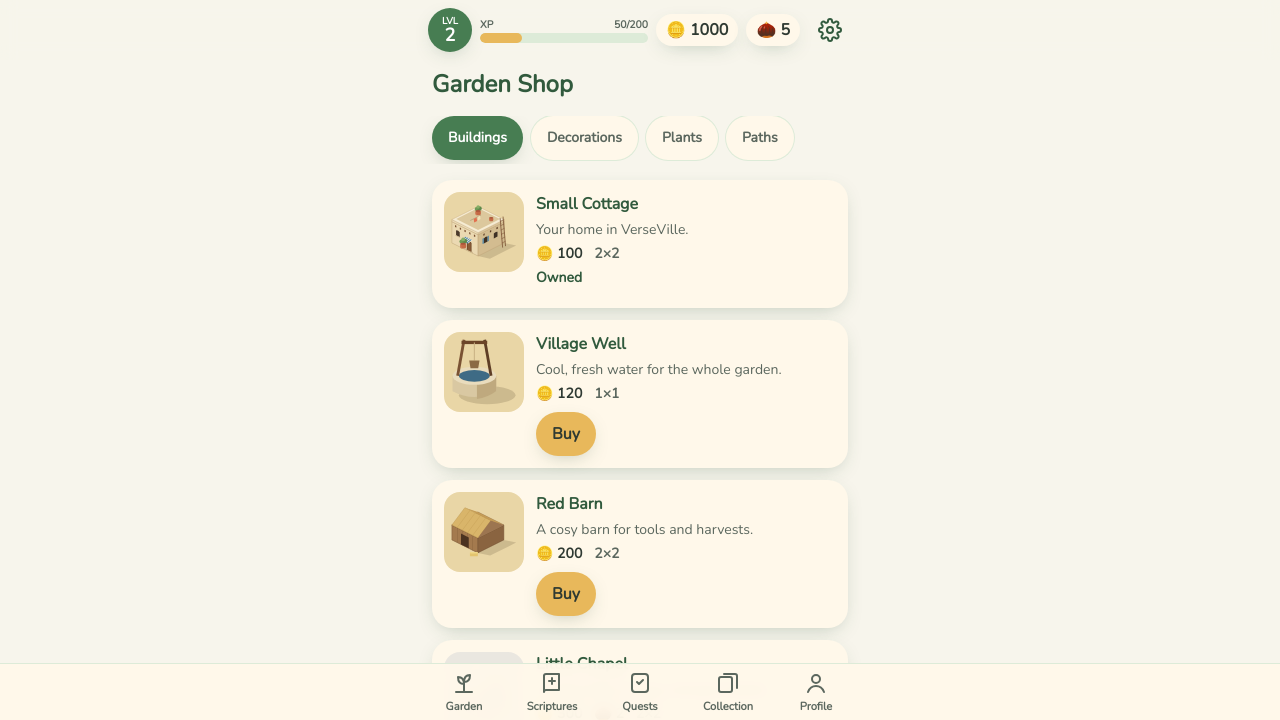
Test: garden screens › unique buildings cannot be bought twice
The image size is (1280, 720).
Expected: the heading "Garden Shop" is shown, [432,68,573,100]
Click the button "Buy" below "120" at (566, 434), box [536,412,596,456]
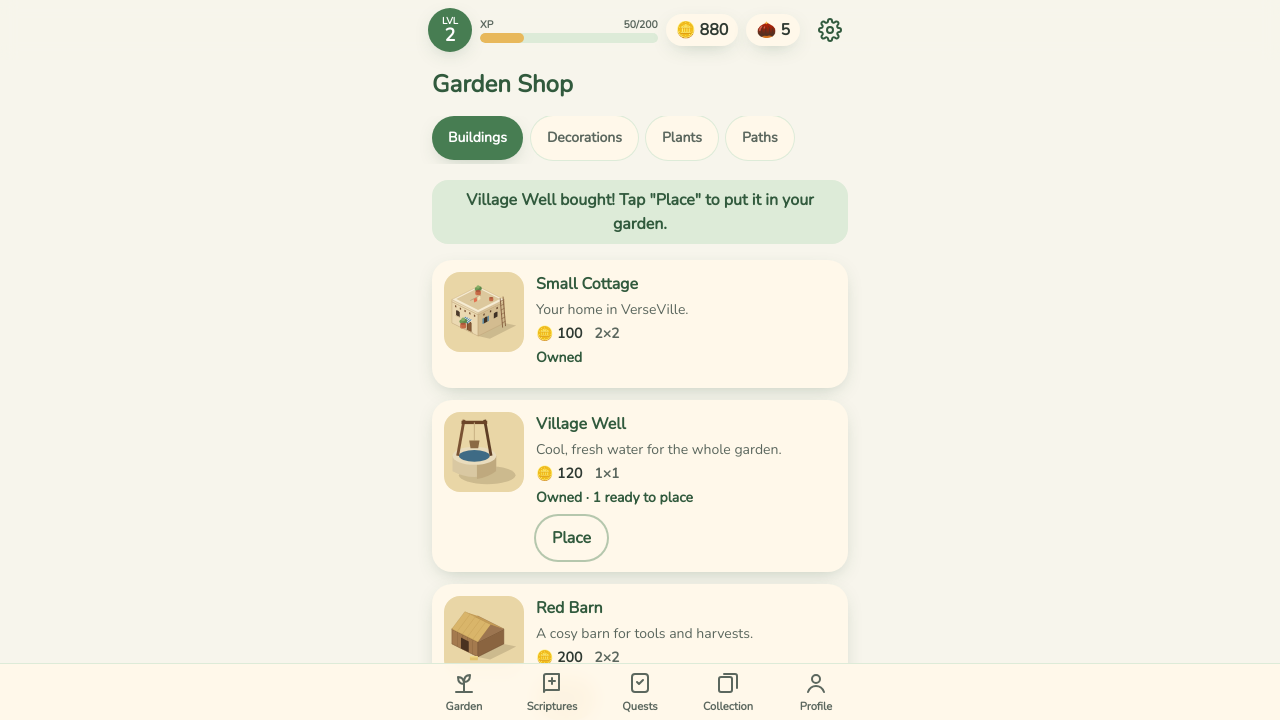
Expected: the text "Village Well bought! Tap \"Place\" to put it in your garden." is shown, [432,180,848,244]
Expected: the text "Owned · 1 ready to place" is shown, [536,488,693,507]
